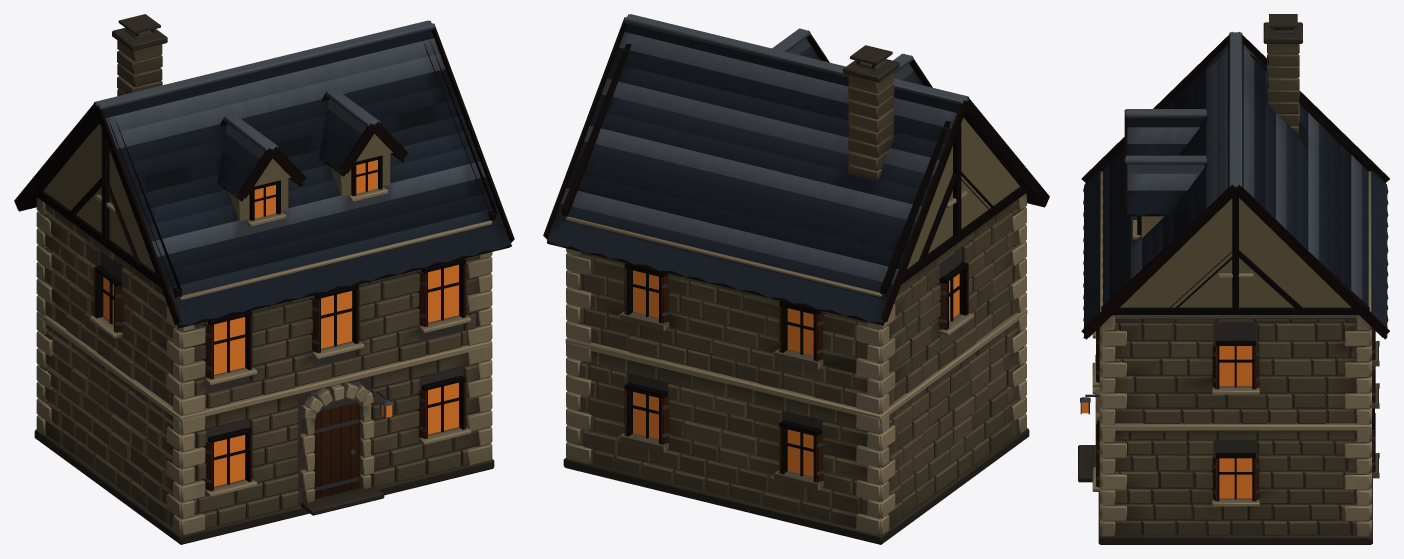
File: Casa4C.fbx
3 renders of one model, left to right at view 1: azimuth 30°, elevation 25°; view 2: azimuth 150°, elevation 25°; view 3: azimuth 270°, elevation 25°, orthographic. The views are drawn at different scales.
Visible parts, largest first — view 1: Casa4C; view 2: Casa4C; view 3: Casa4C.
Part boxes in pixels (bbox=[...]): Casa4C: bbox=[14, 14, 514, 544]; Casa4C: bbox=[543, 14, 1049, 544]; Casa4C: bbox=[1078, 14, 1389, 544].
Bounding box in the file's own units: 8.8 × 10.93 × 7.56.
